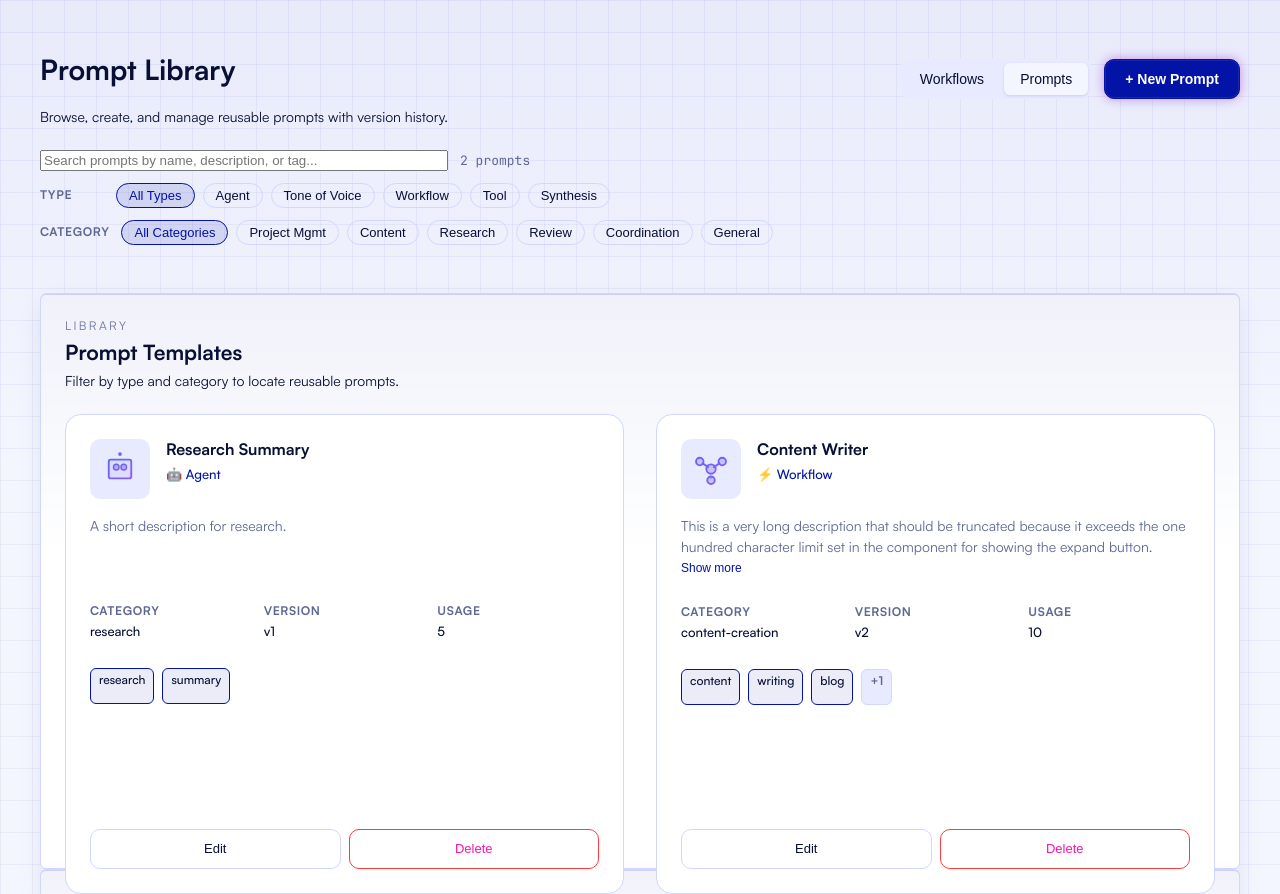
it: PromptLibraryPage › filters prompts by search query
Type "Content Writer" into the field with placeholder "Search prompts by name, description, or tag...". click: point(244, 160)
box: [40,150,448,170]
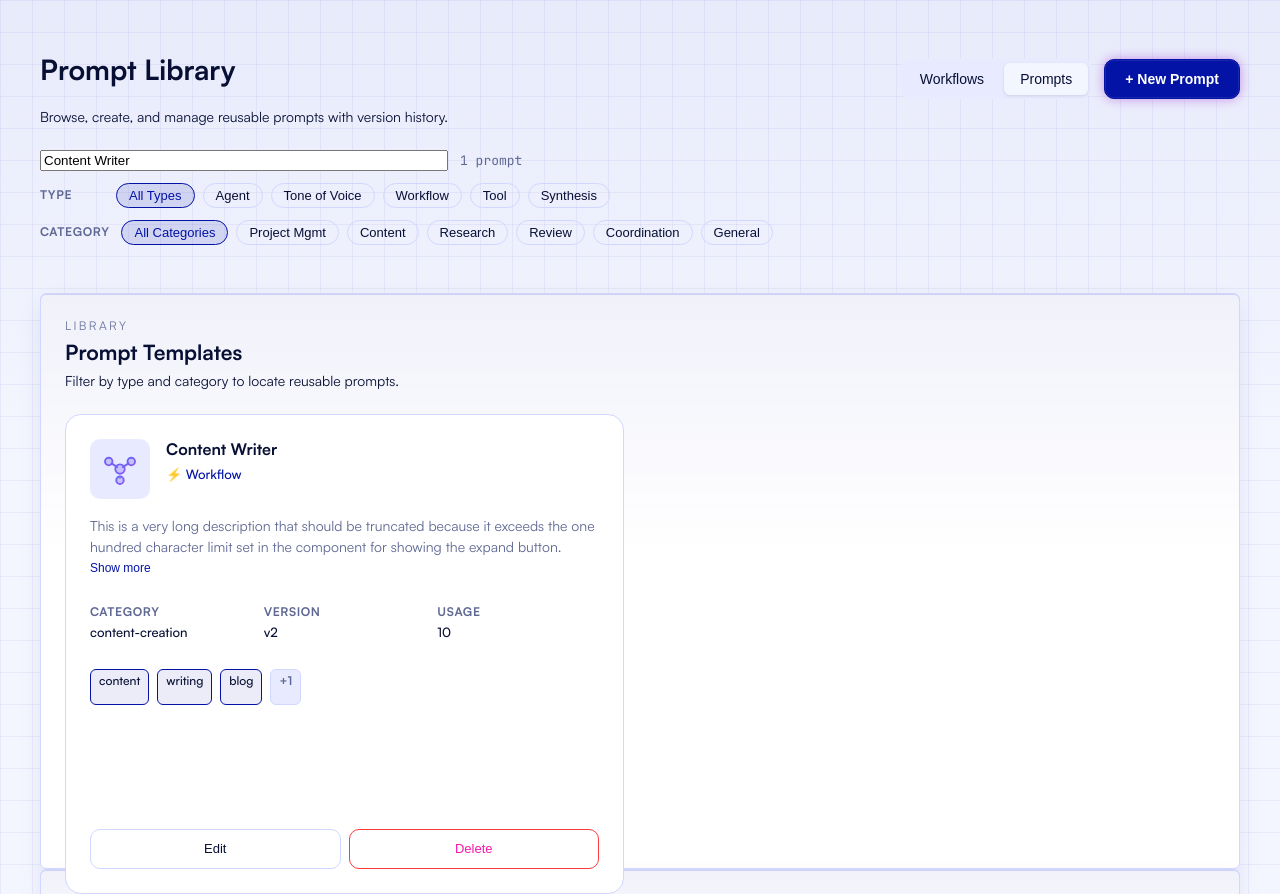
Expected: the heading "Content Writer" is shown, [166,439,277,459]
Result: the heading "Research Summary" is gone
